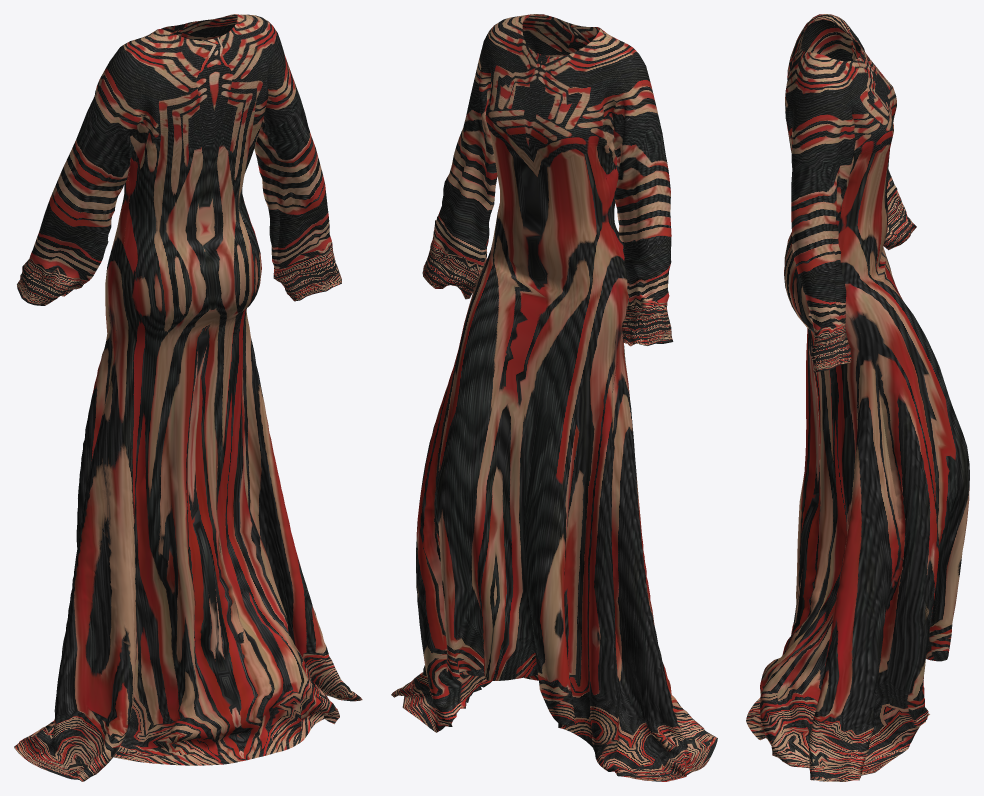
The model's file is garment-female.glb.
3 renders of one model, left to right at view 1: azimuth 30°, elevation 25°; view 2: azimuth 150°, elevation 25°; view 3: azimuth 270°, elevation 25°, orthographic. The views are drawn at different scales.
Visible parts, largest first — view 1: 04_FemaleWearables; view 2: 04_FemaleWearables; view 3: 04_FemaleWearables.
Boxes of the visible parts, bbox=[...] form: 04_FemaleWearables: bbox=[14, 14, 362, 781]; 04_FemaleWearables: bbox=[391, 14, 717, 781]; 04_FemaleWearables: bbox=[746, 14, 969, 781].
Size of the model in its own units: 3.33 by 7.15 by 2.15.
1 material, 1 textured.
